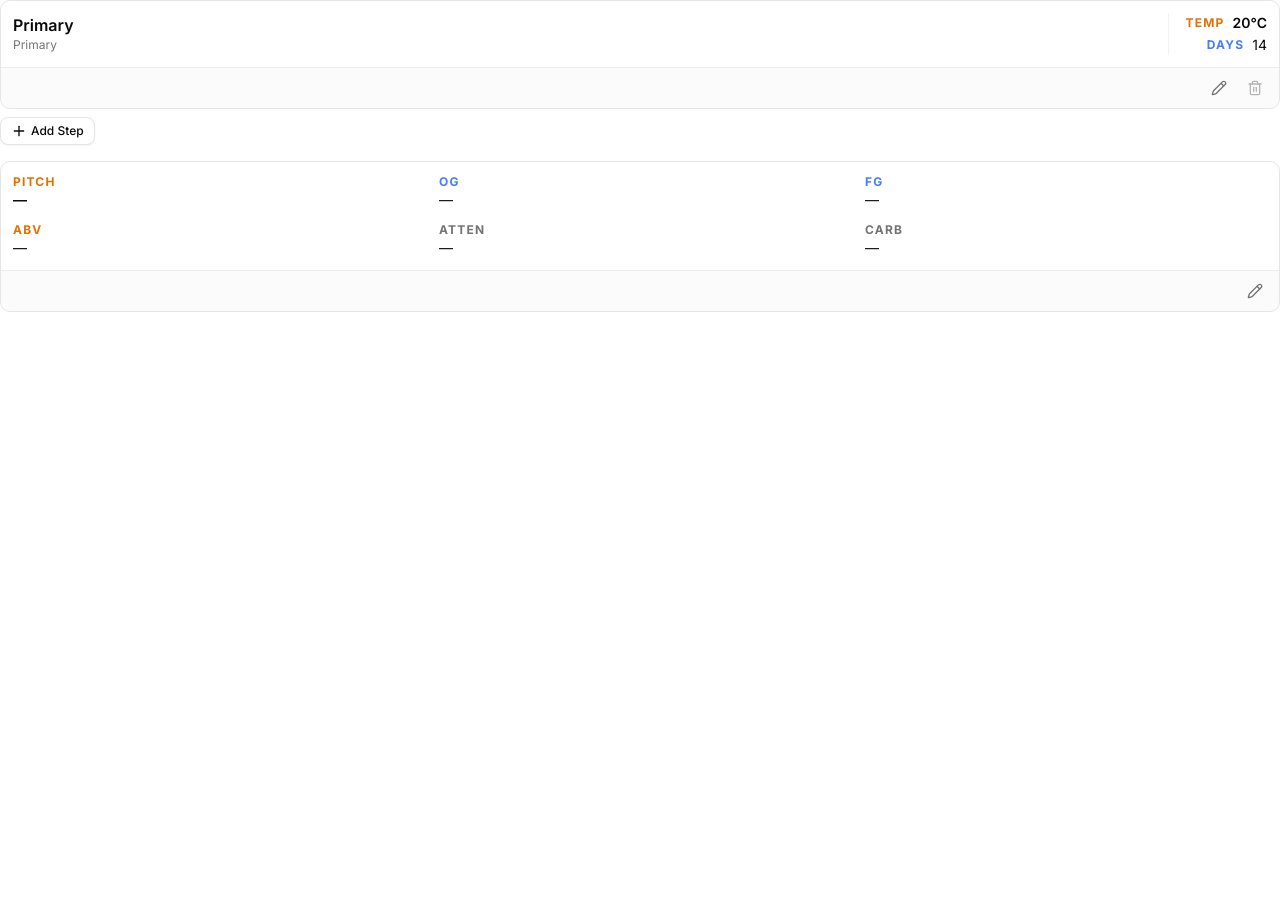
Scenario: FermentationSection › fermentation results card › pencil button opens the edit fermentation results dialog
Click the button named "edit fermentation results".
click(1255, 291)  # box 1239,275 -> 1271,307
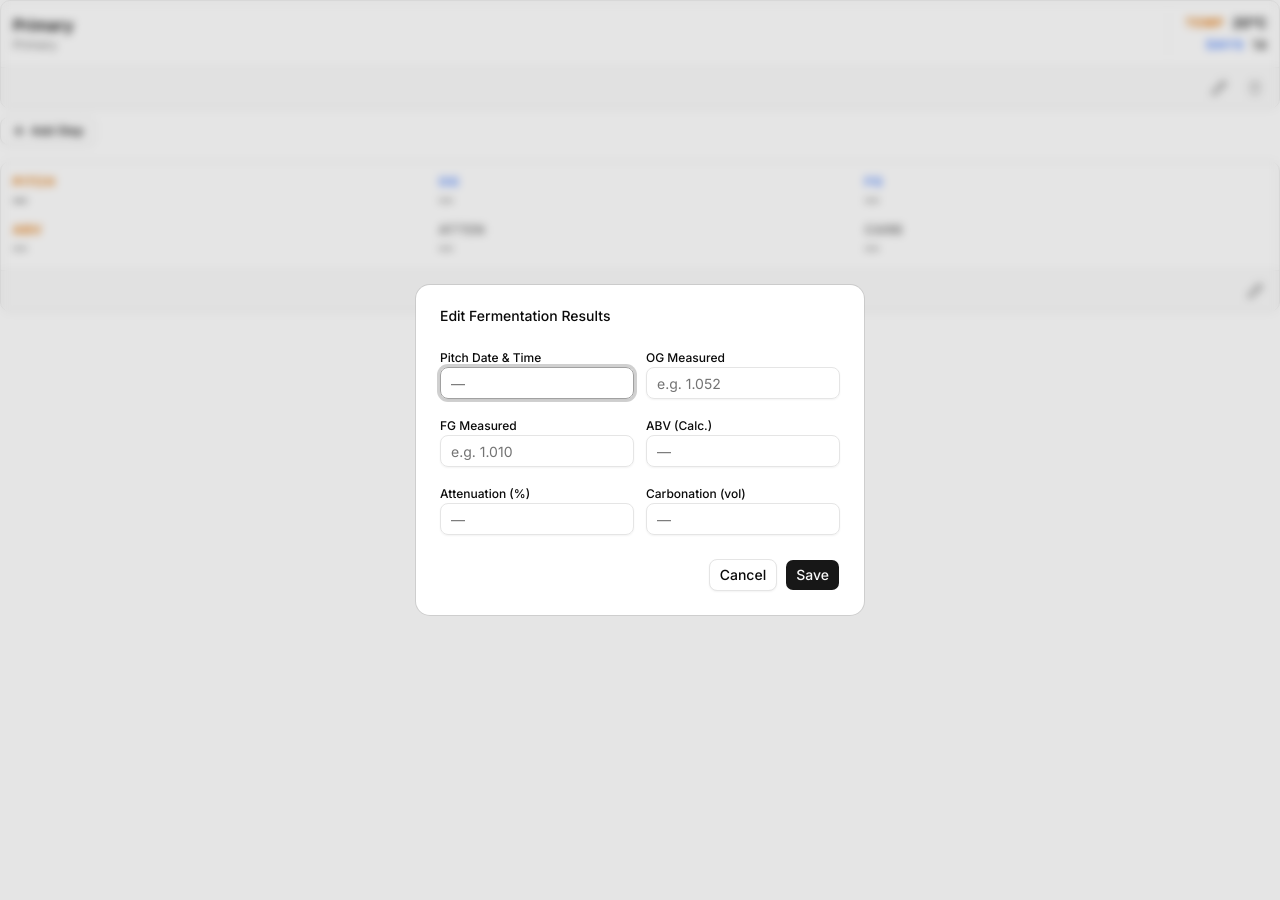
Now the heading "Edit Fermentation Results" is shown, box 440,307 -> 610,324
